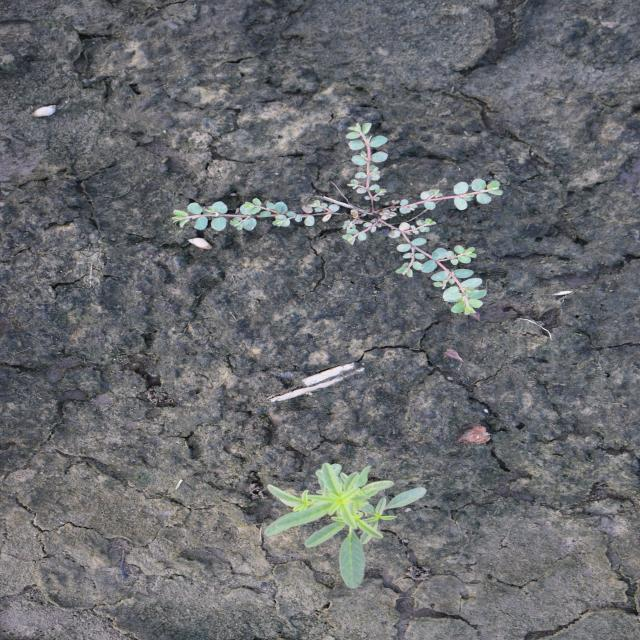SpottedSpurge: (169, 121, 507, 319)
Waterhemp: (262, 460, 432, 590)
